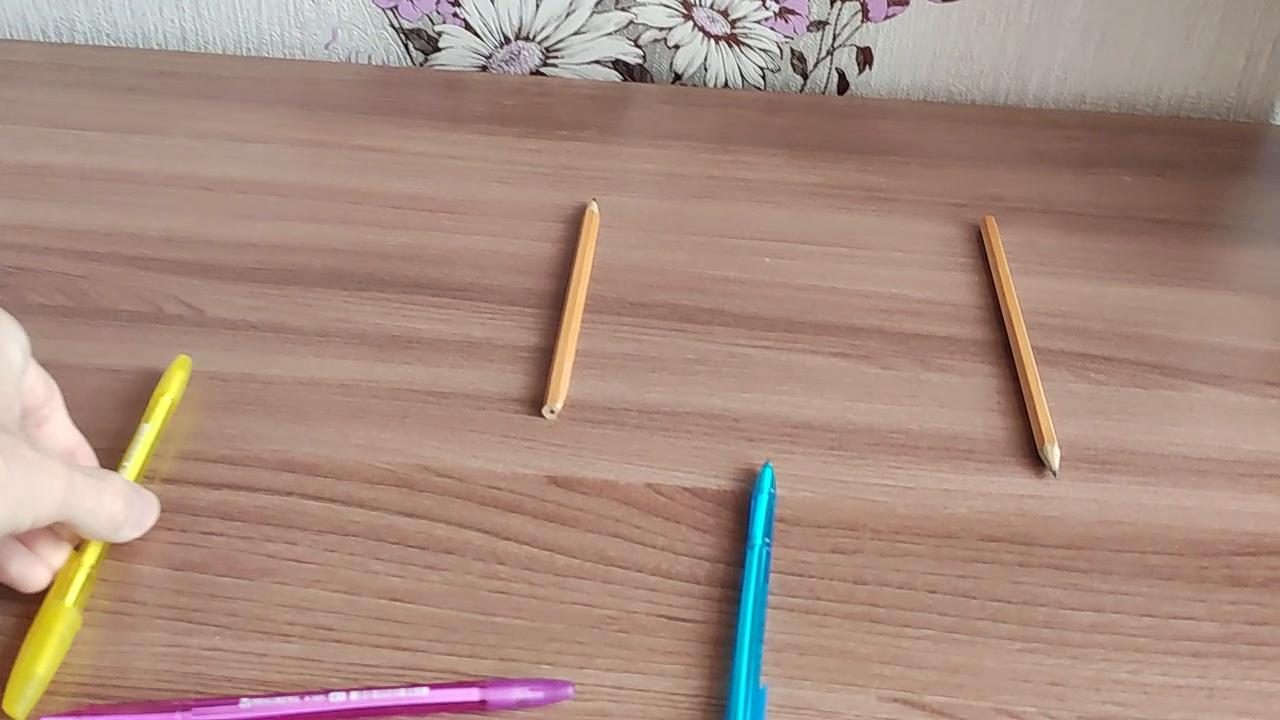pen: (0, 346, 203, 719), (32, 671, 583, 720), (724, 455, 784, 720)
pencil: (976, 209, 1066, 484), (537, 196, 607, 425)
